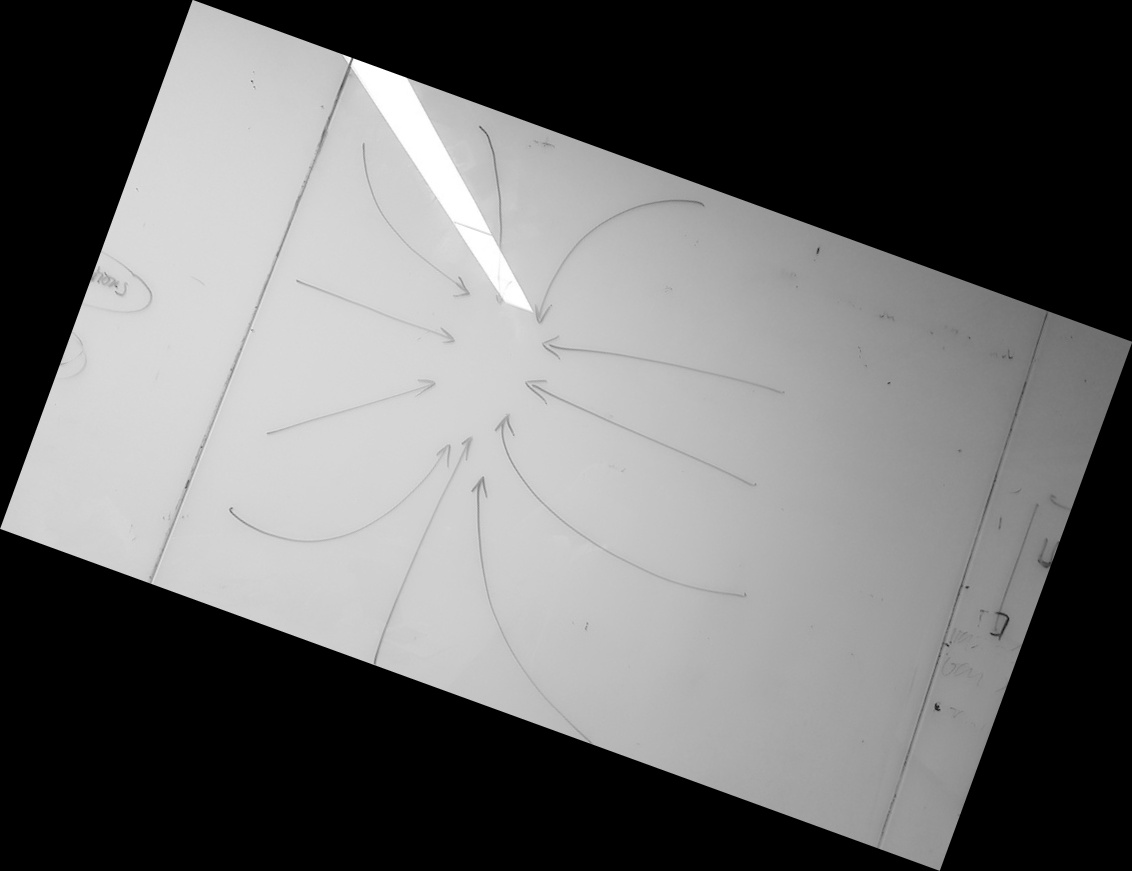arrow: (363, 300, 463, 351), (518, 372, 614, 421), (535, 326, 628, 369), (530, 243, 576, 329), (478, 220, 519, 313), (419, 243, 476, 304), (360, 371, 446, 409), (462, 476, 498, 560), (493, 411, 530, 487), (392, 443, 453, 482), (446, 431, 477, 504)
